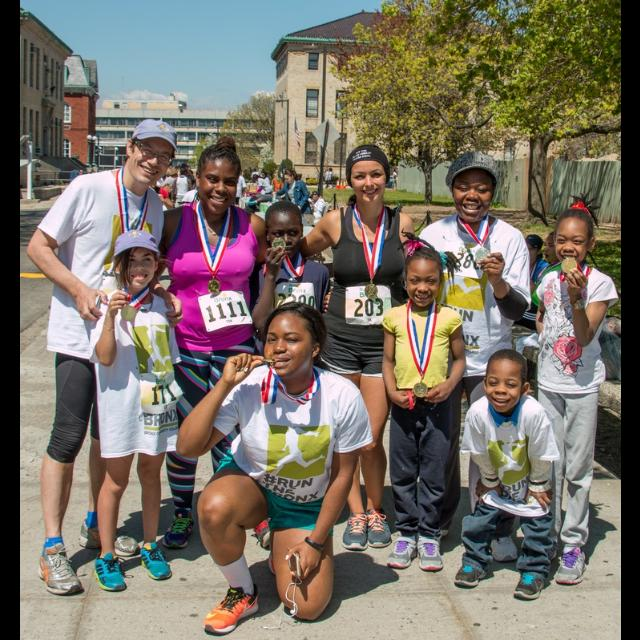head: (262, 302, 326, 378), (194, 146, 242, 217), (124, 120, 176, 184), (450, 160, 500, 223), (482, 350, 530, 414), (401, 246, 447, 308), (346, 145, 390, 207), (552, 208, 596, 268), (263, 200, 305, 262), (112, 237, 158, 290), (543, 230, 569, 264), (524, 236, 542, 260), (282, 170, 294, 184), (179, 167, 187, 177), (311, 191, 319, 201), (252, 174, 258, 182), (239, 171, 245, 177), (328, 168, 334, 172), (326, 170, 328, 172)
person: (21, 114, 185, 598), (147, 133, 335, 554), (170, 296, 378, 640), (266, 140, 424, 556), (403, 152, 539, 570), (520, 185, 620, 593), (84, 226, 182, 594), (373, 228, 472, 576), (242, 196, 334, 554), (448, 346, 562, 602), (489, 228, 578, 334), (506, 232, 556, 336), (268, 168, 312, 235), (295, 190, 329, 250), (170, 166, 194, 222), (250, 172, 274, 210), (228, 168, 248, 212), (326, 167, 334, 190), (322, 168, 330, 190)
